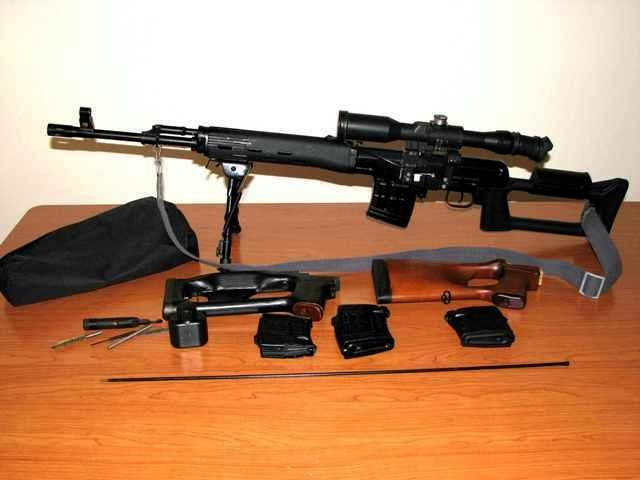rifle: (50, 81, 640, 265)
